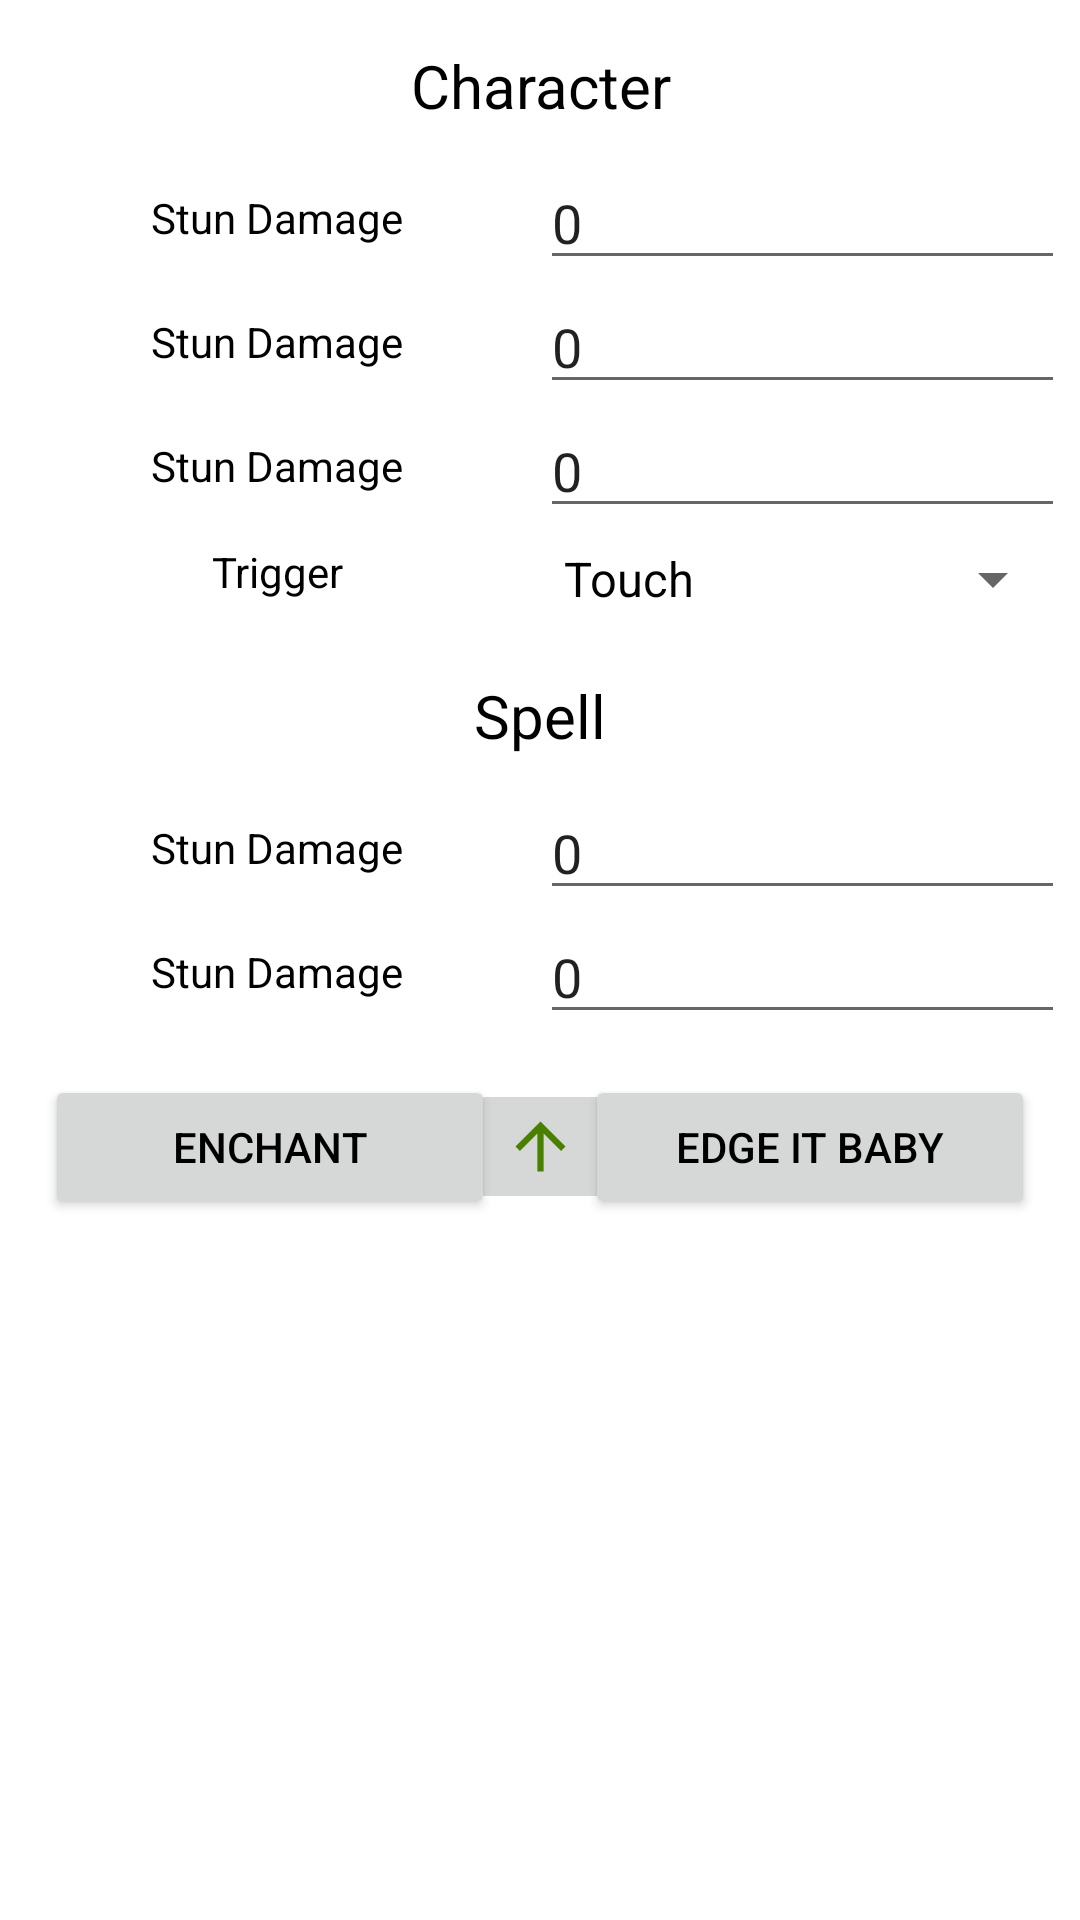

Icons on this 1080×1920 Android screen, each with its box as (x1, y1, x2, y2):
arrow upward: (467, 1093, 614, 1204)
